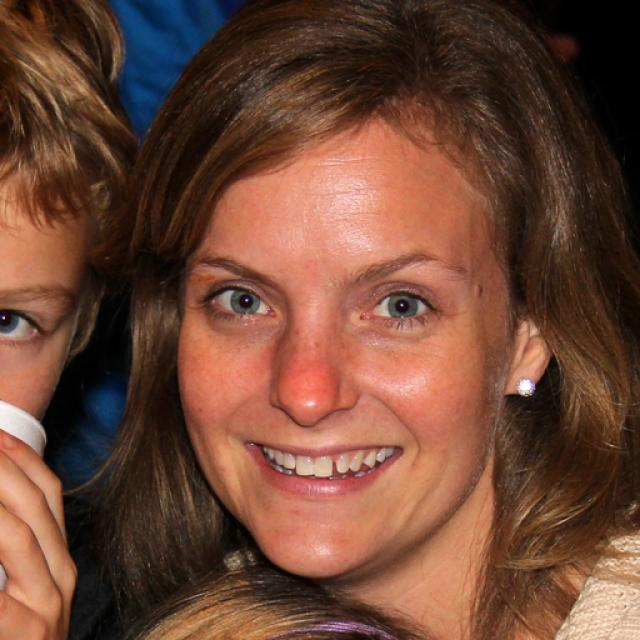Acne: (465, 278, 490, 303)
